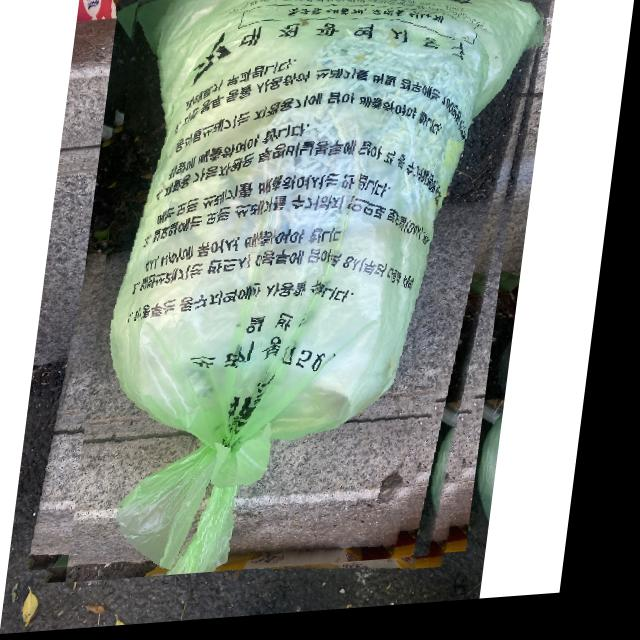general_trashbag: (125, 0, 543, 577)
